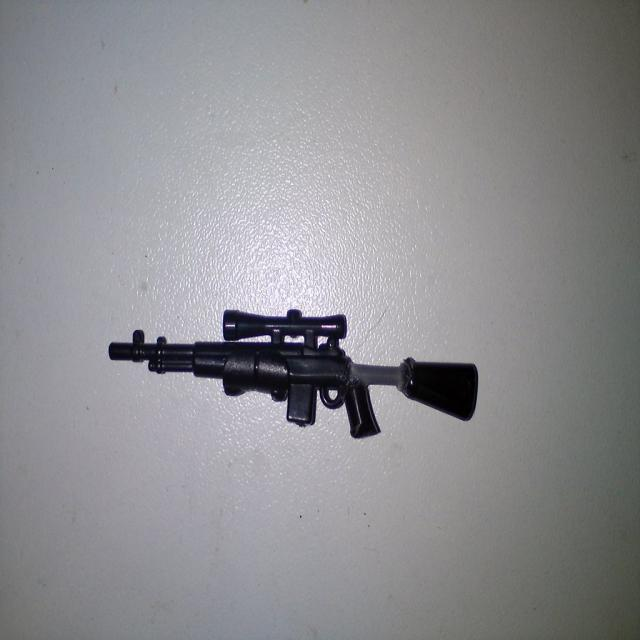Gun: (91, 295, 506, 453)
